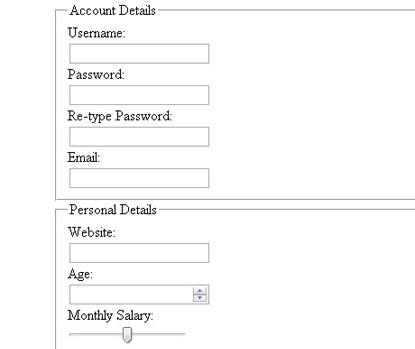field: (67, 82, 209, 107), (68, 281, 209, 306), (67, 125, 211, 149), (69, 42, 211, 66), (68, 166, 211, 188), (69, 242, 210, 264)
field_with_label: (65, 108, 212, 151), (67, 26, 214, 68), (66, 68, 211, 108), (66, 268, 211, 308), (66, 150, 212, 189), (67, 227, 211, 266)
